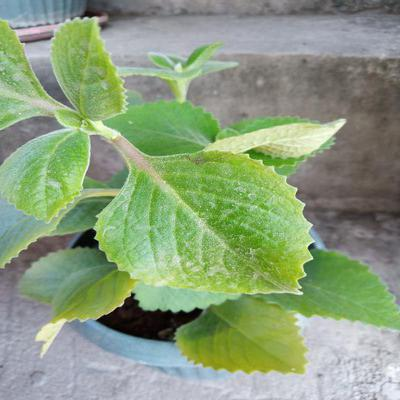Oregano: (36, 79, 372, 359)
